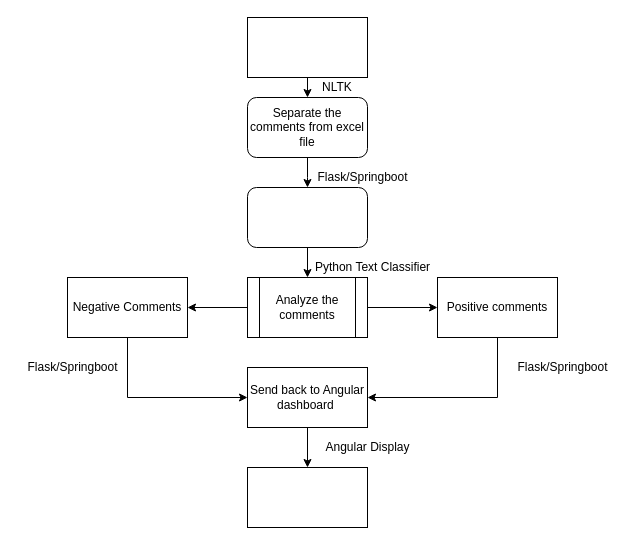
This 634x545 diagram has some shape labels left out. Each missing label, with the centre of its shape:
"Accept excel file using angular dashboard" belongs at [307,47].
"Display % of both types and seperate lists as raw table" belongs at [307,497].
"Send the comments to python script" belongs at [307,217].
